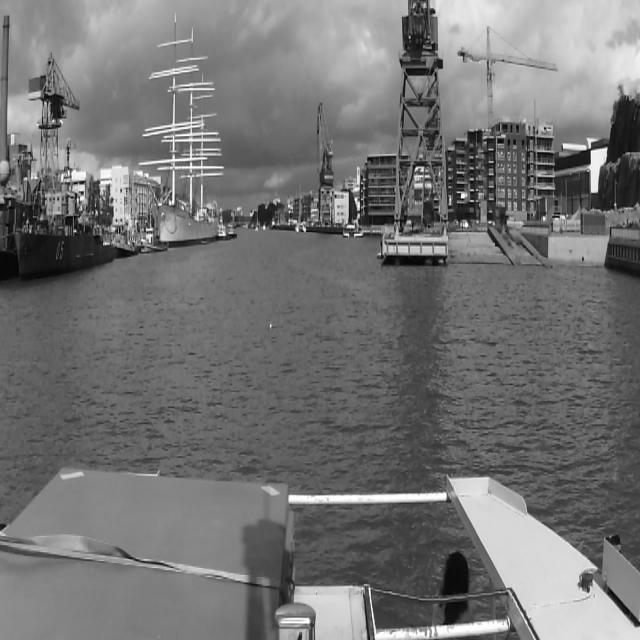ship: (139, 12, 220, 240), (19, 153, 113, 278), (113, 220, 138, 256), (140, 228, 168, 252), (295, 186, 307, 232), (343, 224, 363, 237), (216, 225, 232, 241), (228, 222, 237, 238)
